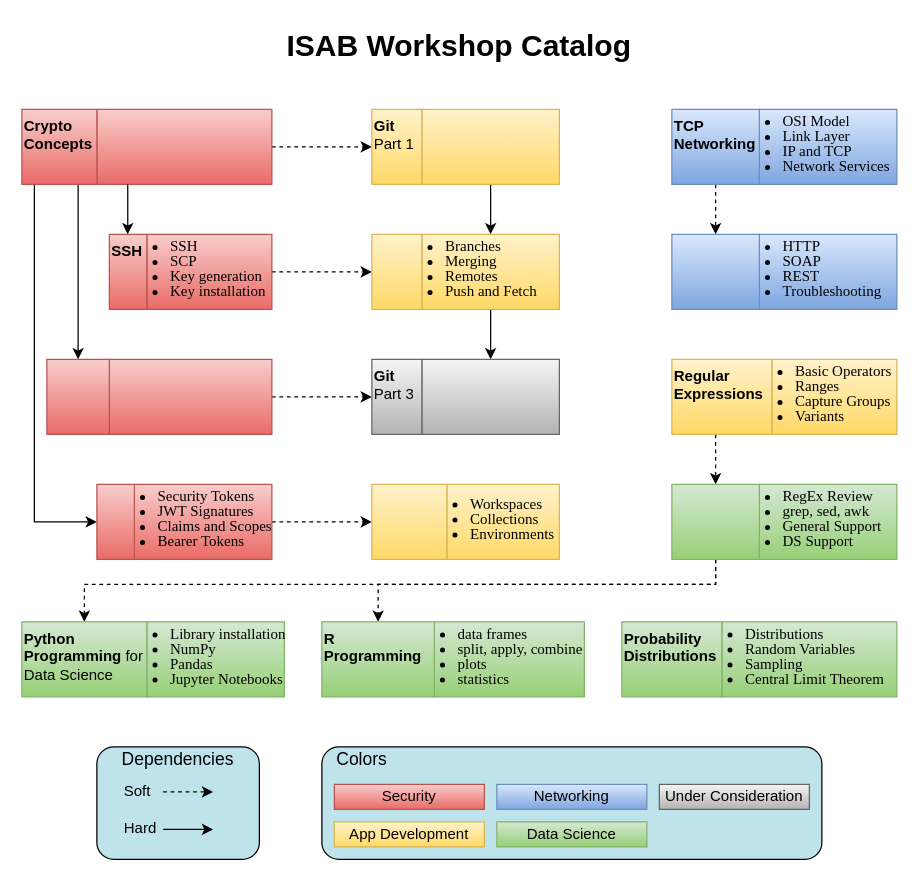
The diagram is 919 pixels wide and 881 high, and some of its shapes have lost their labels. The box of each missing label's shape, as (x1, y1, x2, y2) in pixels:
a/symmetric encryption hashing digital signatures certificates: (96, 108, 272, 184)
Application Networking: (671, 233, 759, 309)
Data Wrangling: (671, 483, 759, 559)
Git Part 2: (371, 233, 422, 309)
Gnu Privacy Guard (GPG): (46, 358, 109, 434)
Installation Initialization Basic Lifecyle Log and Diff: (421, 108, 559, 184)
JWT: (96, 483, 134, 559)
Master key generation Key import/export Encrypt/Decrypt Signatures: (108, 358, 272, 434)
Postman Teams: (371, 483, 447, 559)
Tags Commit Signing Author delegation Stashing: (421, 358, 559, 434)
